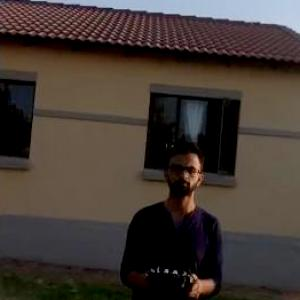follow: (115, 133, 226, 299)
